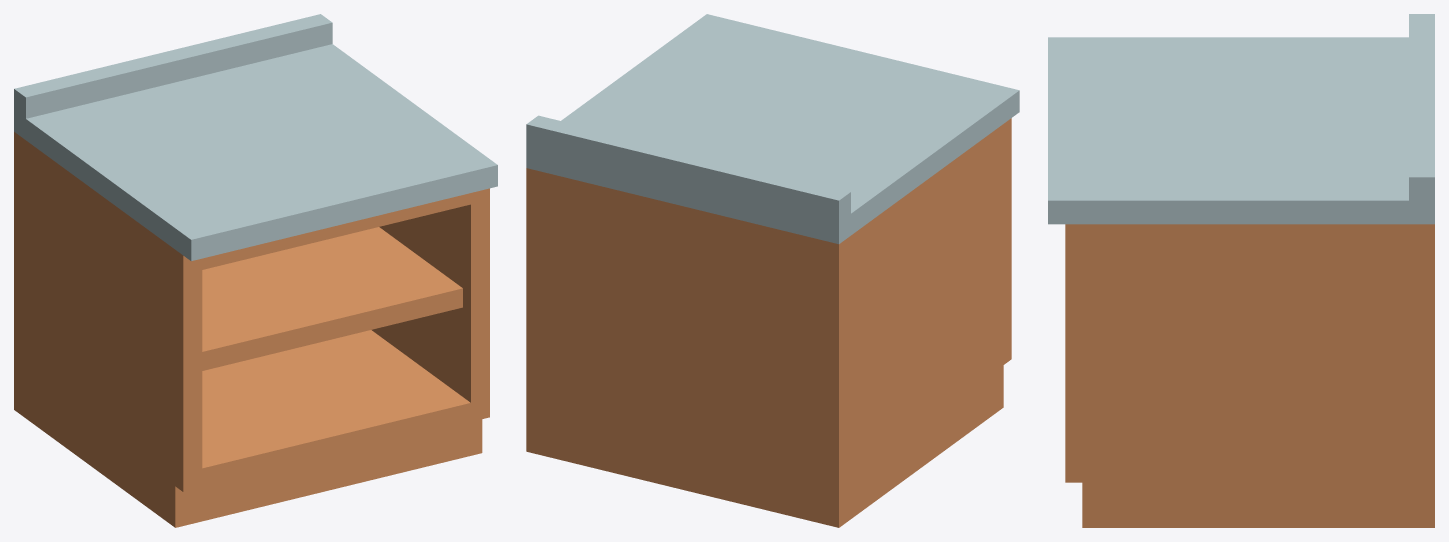
The model's file is kitchenCabinet.glb.
3 views of the same model, side by side, from view 1: azimuth 30°, elevation 25°; view 2: azimuth 150°, elevation 25°; view 3: azimuth 270°, elevation 25° (orthographic). The views are drawn at different scales.
Parts seen in each view (by area): view 1: kitchenCabinet; view 2: kitchenCabinet; view 3: kitchenCabinet.
Boxes of the visible parts, x1,y1,x2,y2 form: kitchenCabinet: [14, 14, 497, 527]; kitchenCabinet: [526, 14, 1019, 527]; kitchenCabinet: [1048, 14, 1434, 527].
Size of the model in its own units: 0.9978 by 0.9978 by 0.9978.
